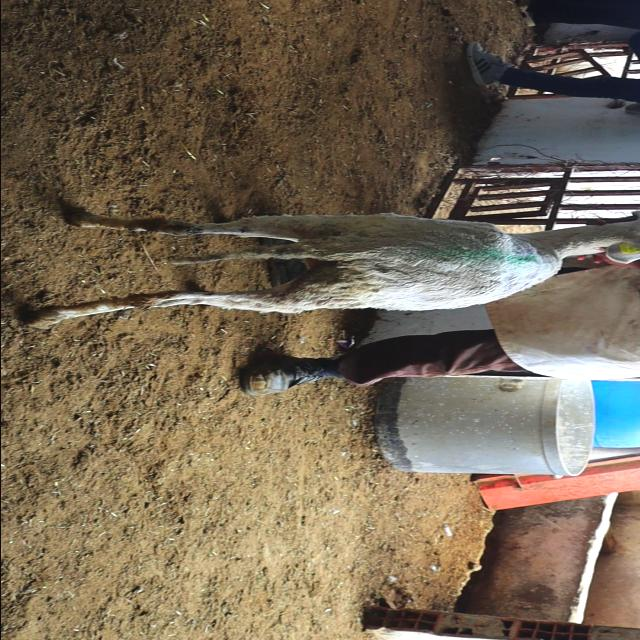Score_1: (25, 207, 640, 328)
